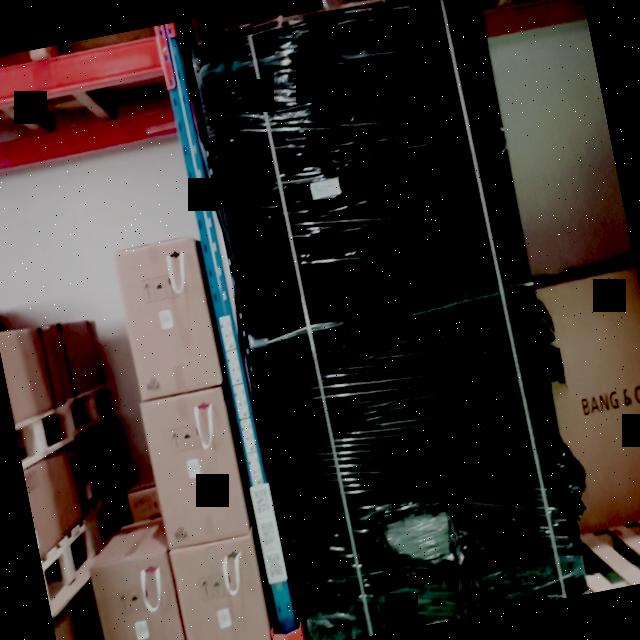box: (192, 0, 588, 640), (535, 266, 640, 535), (142, 387, 249, 548), (115, 240, 223, 398), (171, 538, 272, 640), (92, 553, 189, 640)
